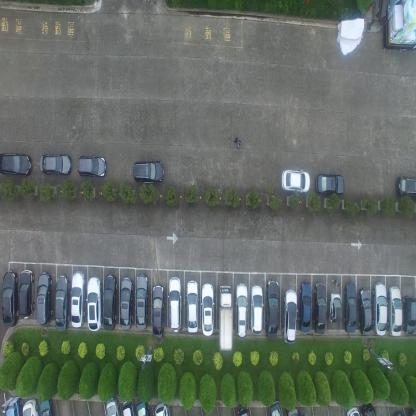car: (1, 270, 18, 329), (219, 284, 233, 354), (70, 269, 86, 328), (54, 274, 70, 333), (102, 273, 118, 331), (86, 276, 102, 332), (132, 157, 164, 185), (265, 278, 279, 341), (18, 268, 35, 319), (372, 280, 387, 336), (37, 270, 52, 326), (38, 152, 72, 176), (168, 275, 182, 333), (76, 153, 107, 179), (0, 152, 32, 177), (235, 283, 249, 340), (186, 279, 200, 335), (283, 288, 297, 344), (282, 167, 310, 195), (387, 286, 402, 338), (151, 284, 165, 339), (119, 276, 133, 331), (135, 272, 148, 331), (357, 287, 372, 337), (315, 172, 345, 197), (201, 281, 214, 337), (342, 282, 356, 333), (251, 285, 264, 338), (313, 282, 326, 334), (299, 280, 311, 332), (395, 174, 416, 202), (402, 293, 416, 334), (328, 292, 342, 324), (39, 394, 54, 416), (5, 396, 22, 415), (268, 398, 284, 416), (105, 397, 121, 415), (22, 397, 38, 415), (135, 397, 150, 415), (121, 398, 135, 416), (153, 400, 169, 415), (360, 402, 376, 415), (286, 402, 300, 415), (236, 403, 250, 415), (345, 404, 360, 415)
